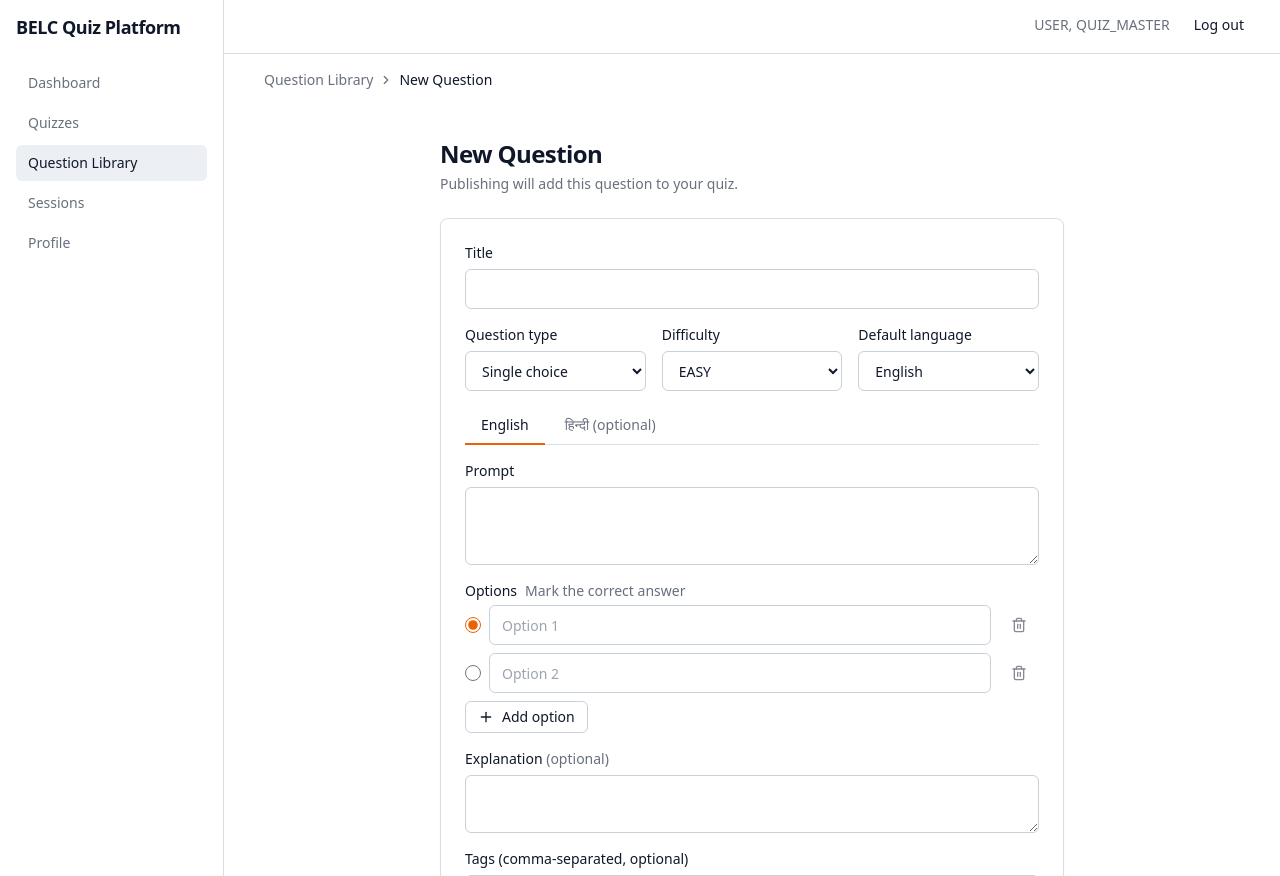
Test: CreateQuestionPage › publishes and auto-attaches when authoring was launched from a quiz
Step 1. Type "Exodus leader" into the field labelled "Title" → [752, 289], box [465,269,1039,309]
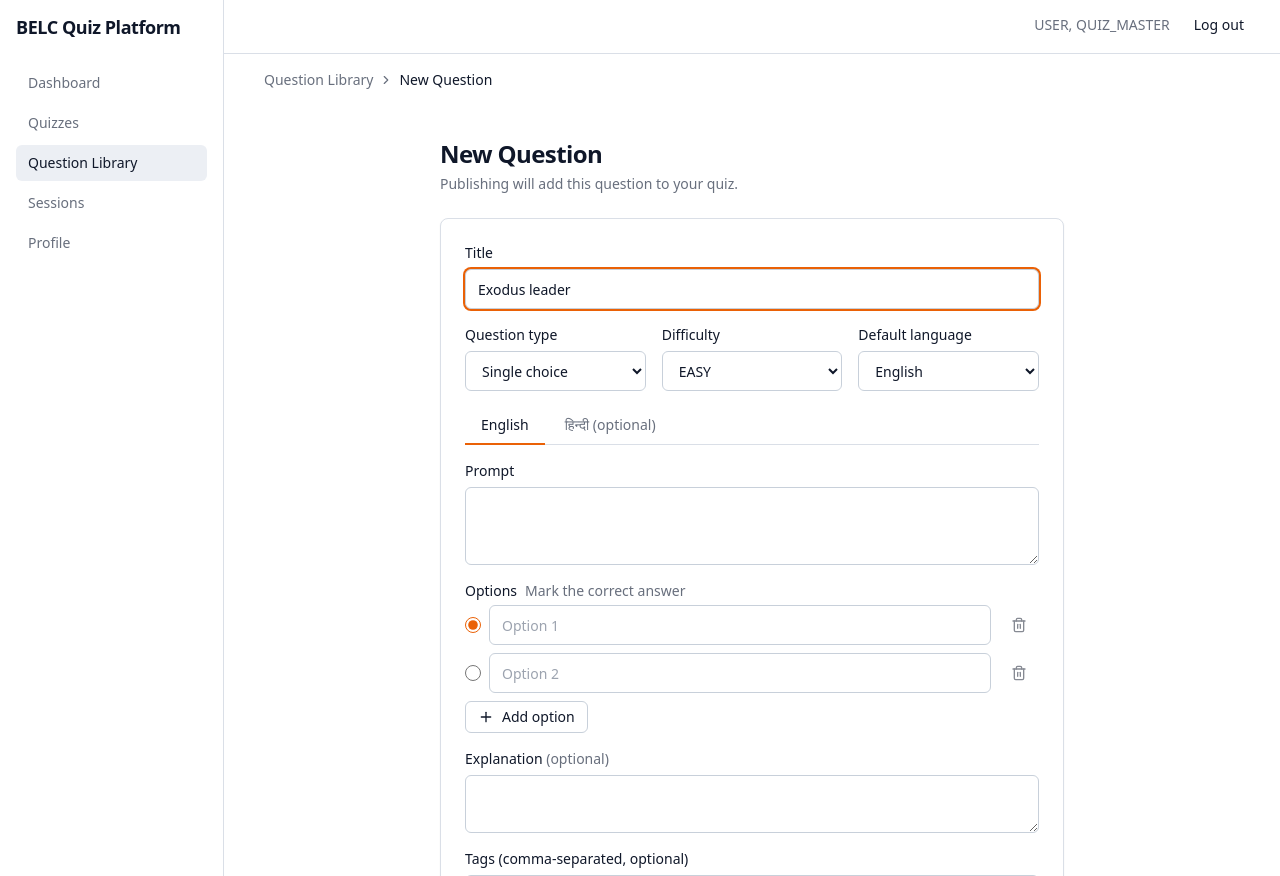
Step 2. Type "Who led Israel out of Egypt?" into the text box labelled "Prompt" → [752, 526], box [465,487,1039,565]
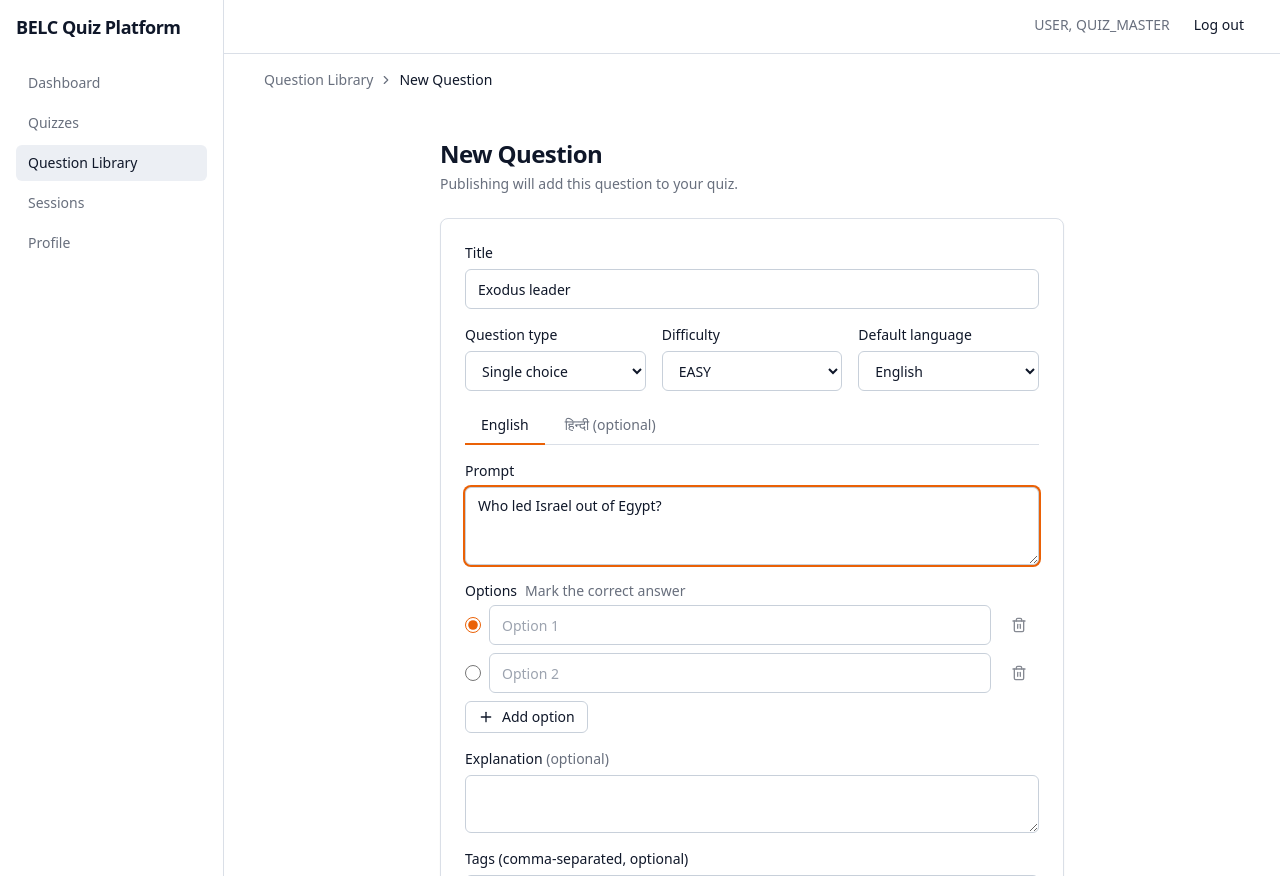
Step 3. Type "Moses" into the field named "Option 1 text" → [740, 625], box [489,605,991,645]
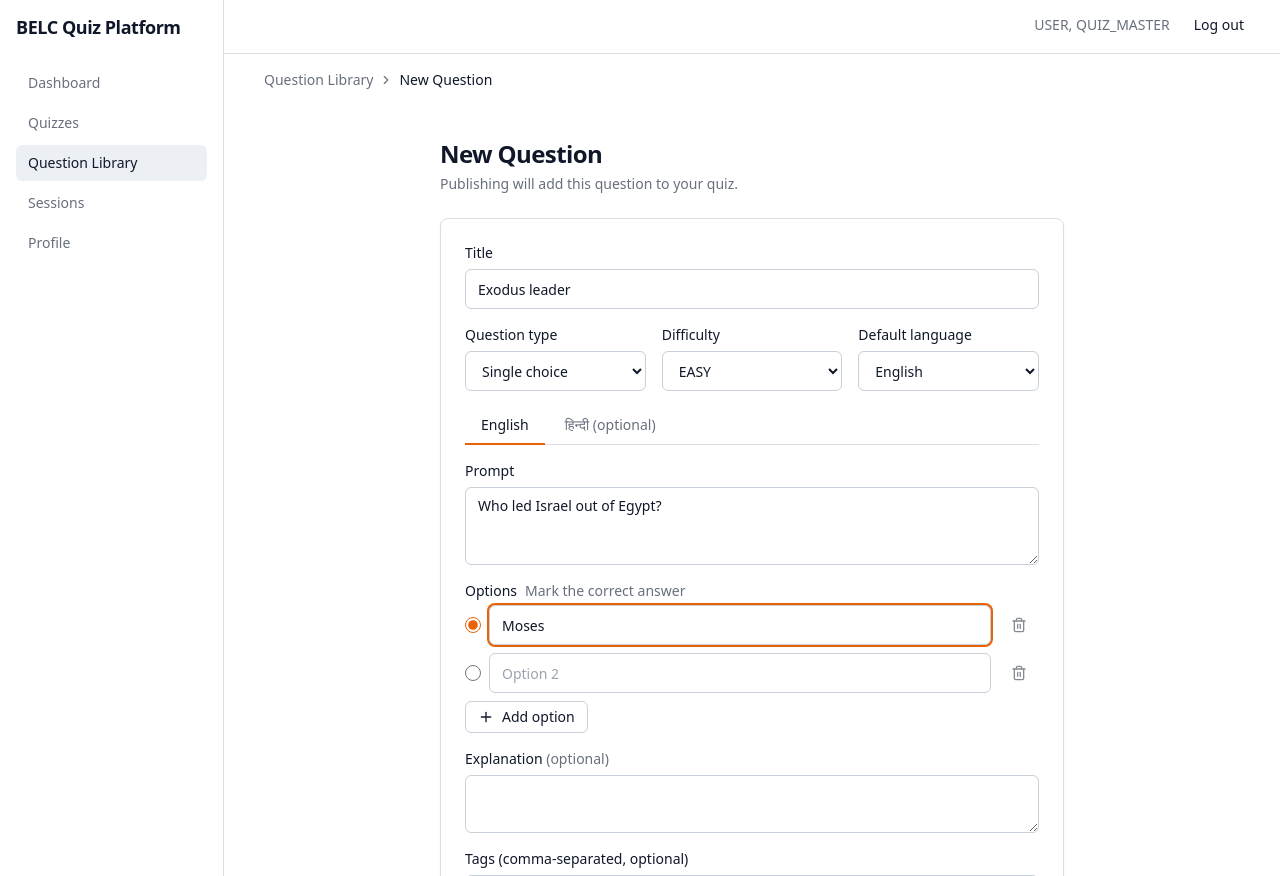
Step 4. Type "Aaron" into the field named "Option 2 text" → [740, 673], box [489,653,991,693]
(page scrolled)
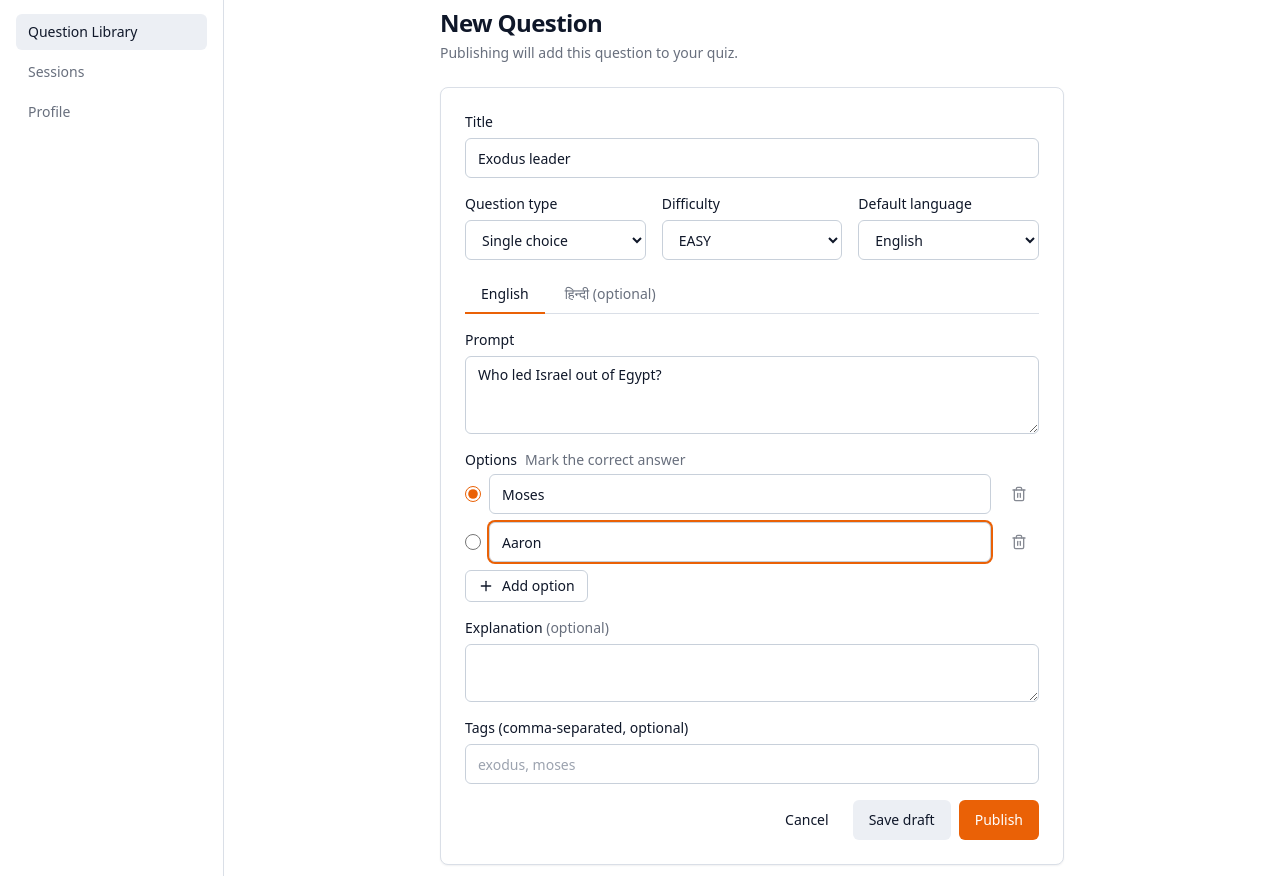
Step 5. Click the button "Publish" → [999, 820], box [959,800,1039,840]
(page scrolled)
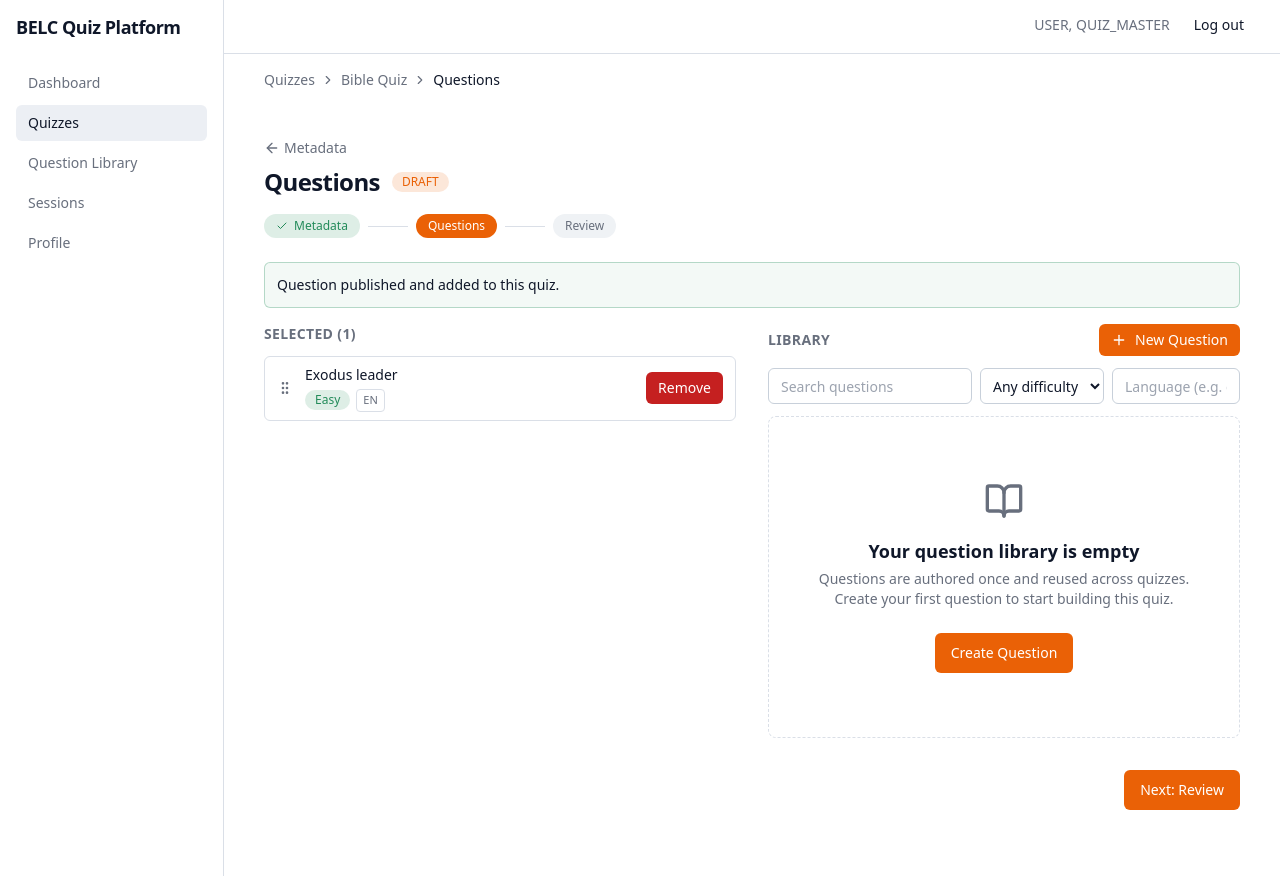
Expected: the text "Question published and added to this quiz." is shown, [264,262,1240,308]
Expected: the heading "Selected (1)" is shown, [264,324,356,343]
